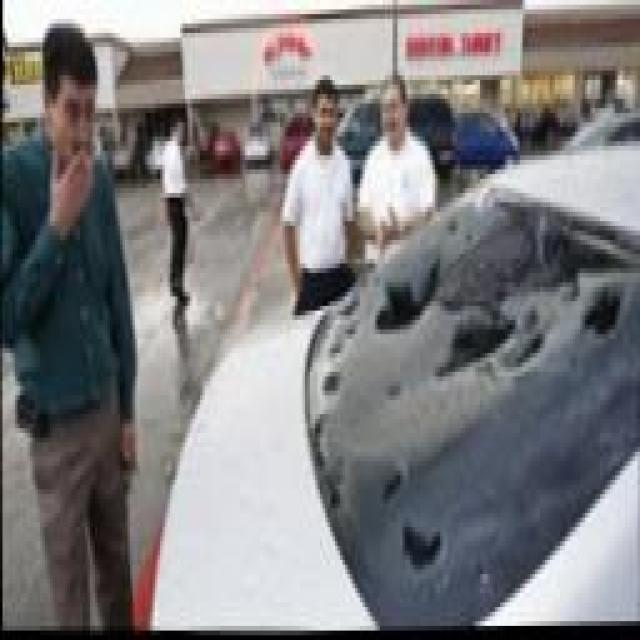replaceable: (338, 204, 640, 570)
